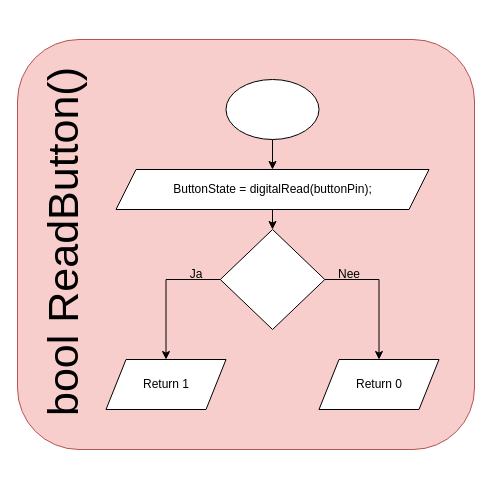
Some shapes in this 492 by 484 pixel diagram are drawn without their labels. Here are the shapes that lost their labels. From the top down, the box of each, then its label:
(225, 78, 319, 140): Start
(219, 228, 325, 330): button state = 0
